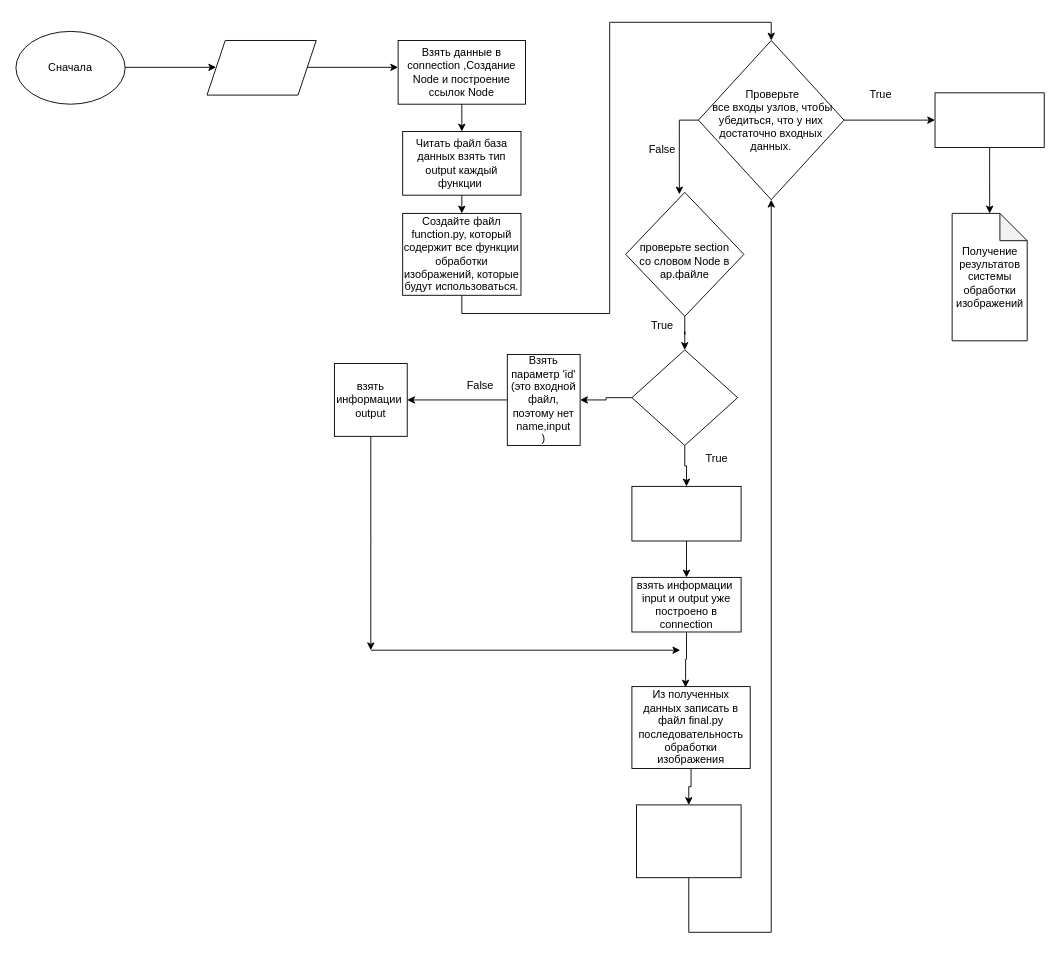
Image size: 1060x956. Some labels were removed from this diagram. Each missing label, with the box of its shape:
Взять параметр 'id' и имя функции 'name': (631, 485, 741, 541)
Записать в файл Note.txt пошаговую обработку изображения в файле final.py: (636, 804, 741, 878)
Запустите файл final.py: (934, 92, 1044, 147)
Проверьте, есть ли в section тип данных Name: (631, 349, 738, 445)
файл ap: (206, 40, 316, 95)
